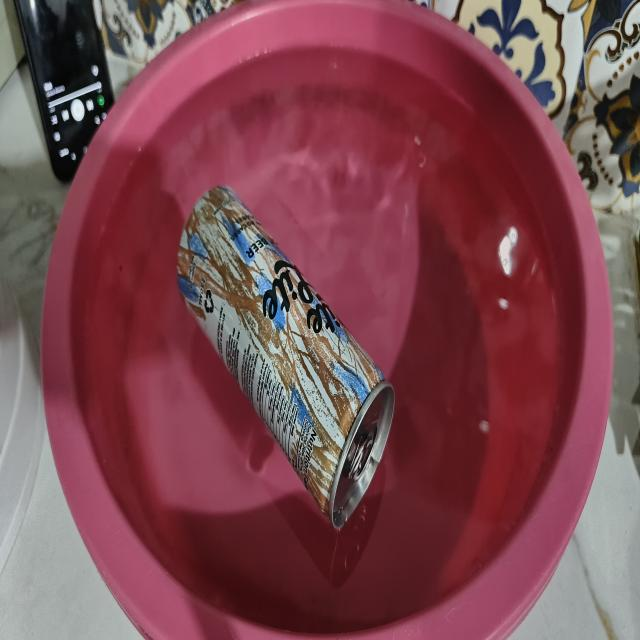Aluminum Can: (153, 136, 422, 570)
